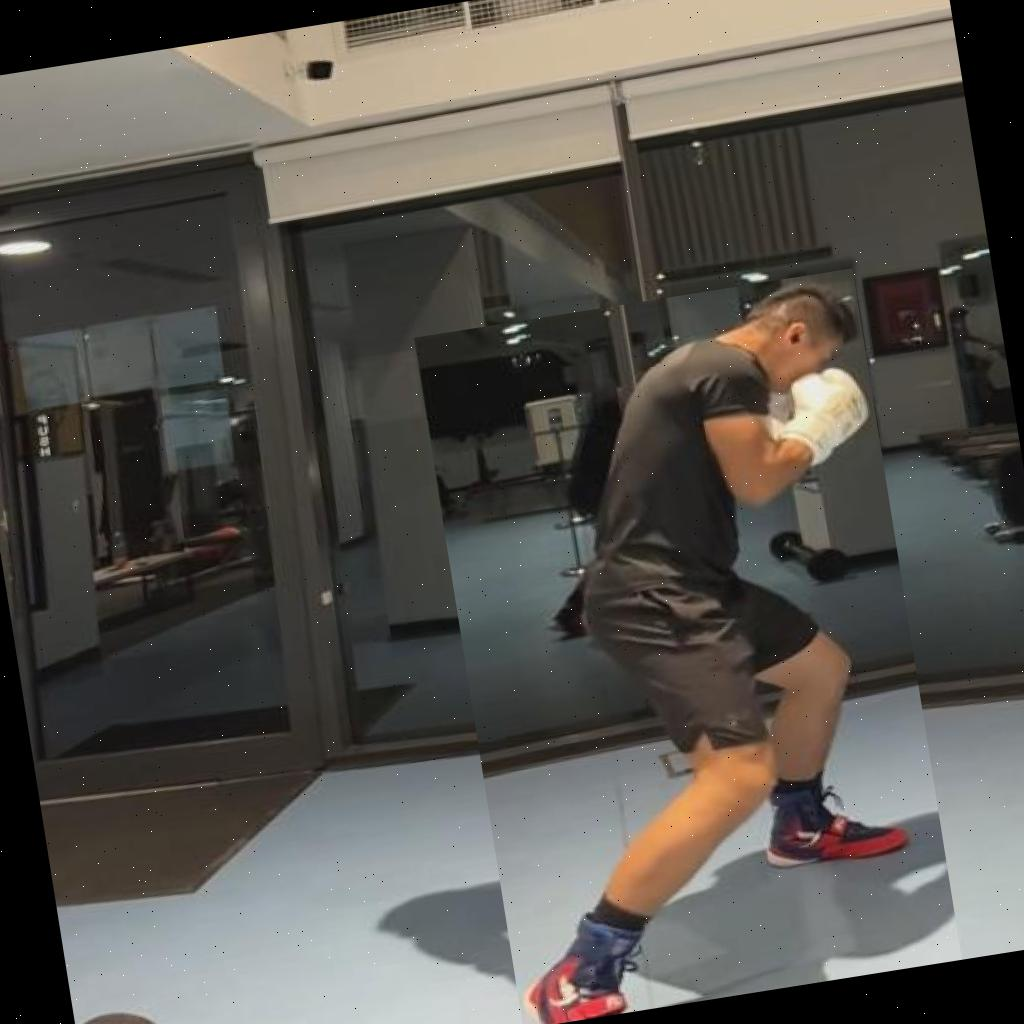no punch: (413, 267, 961, 1024)
